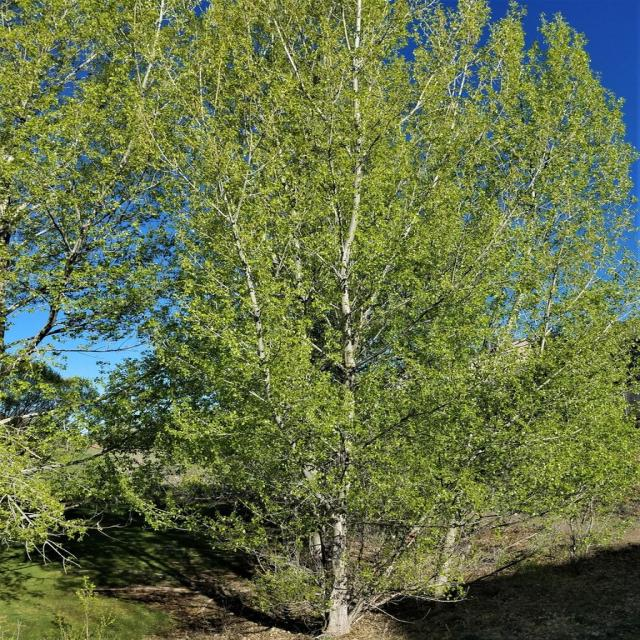Populus angustifolia: (126, 0, 568, 628)
